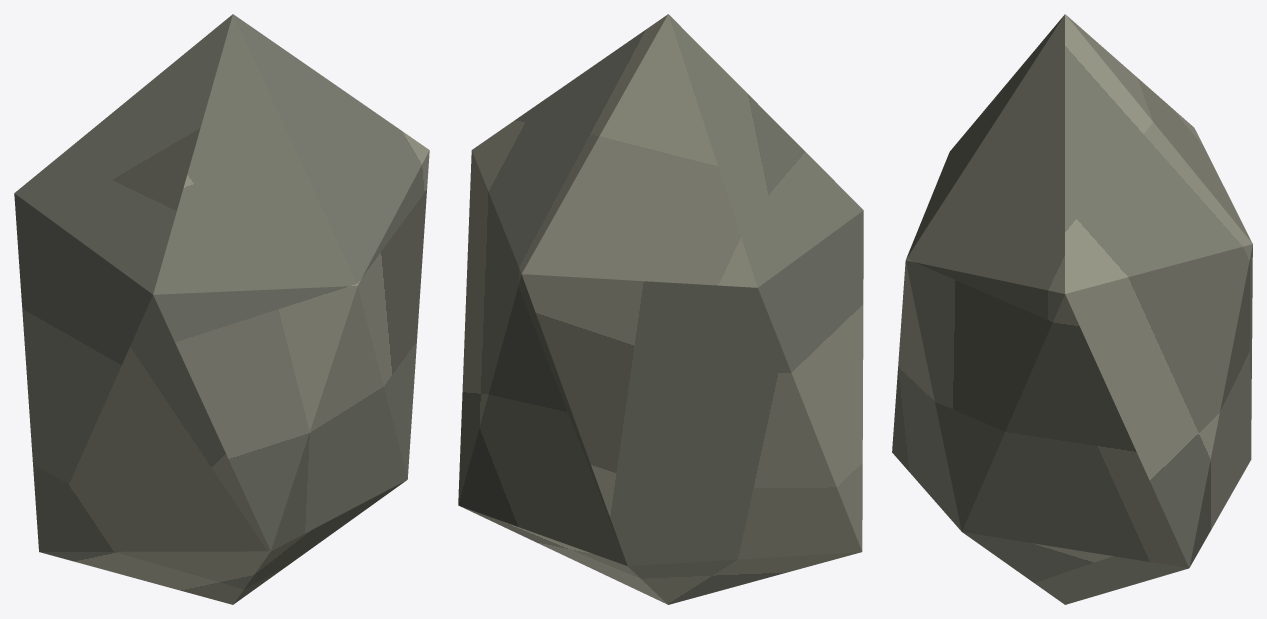
The model's file is Rock_3.fbx.
The picture shows the model from 3 angles, left to right: view 1: azimuth 30°, elevation 25°; view 2: azimuth 150°, elevation 25°; view 3: azimuth 270°, elevation 25°; orthographic projection.
Parts seen in each view (by area): view 1: Rock_3; view 2: Rock_3; view 3: Rock_3.
Boxes of the visible parts, x1=… form: Rock_3: x1=14, y1=14, x2=429, y2=604; Rock_3: x1=458, y1=14, x2=863, y2=604; Rock_3: x1=892, y1=14, x2=1252, y2=604.
Size of the model in its own units: 141 by 203 by 112.
Materials: 1 (1 with a texture image).
